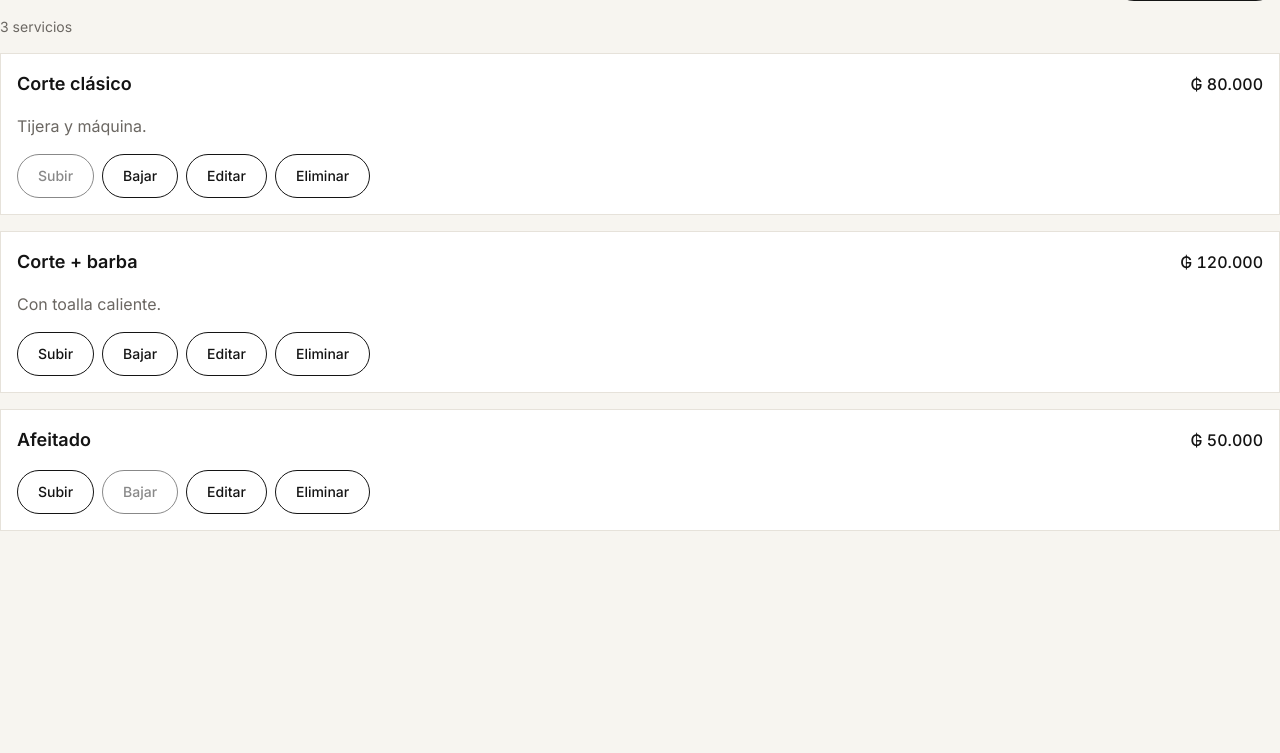
Scenario: edición en línea › Cancelar cierra el formulario y devuelve el foco a Editar
Click the button with aria-label "Editar Corte + barba" at (226, 354), box [186,332,267,376]
(page scrolled)
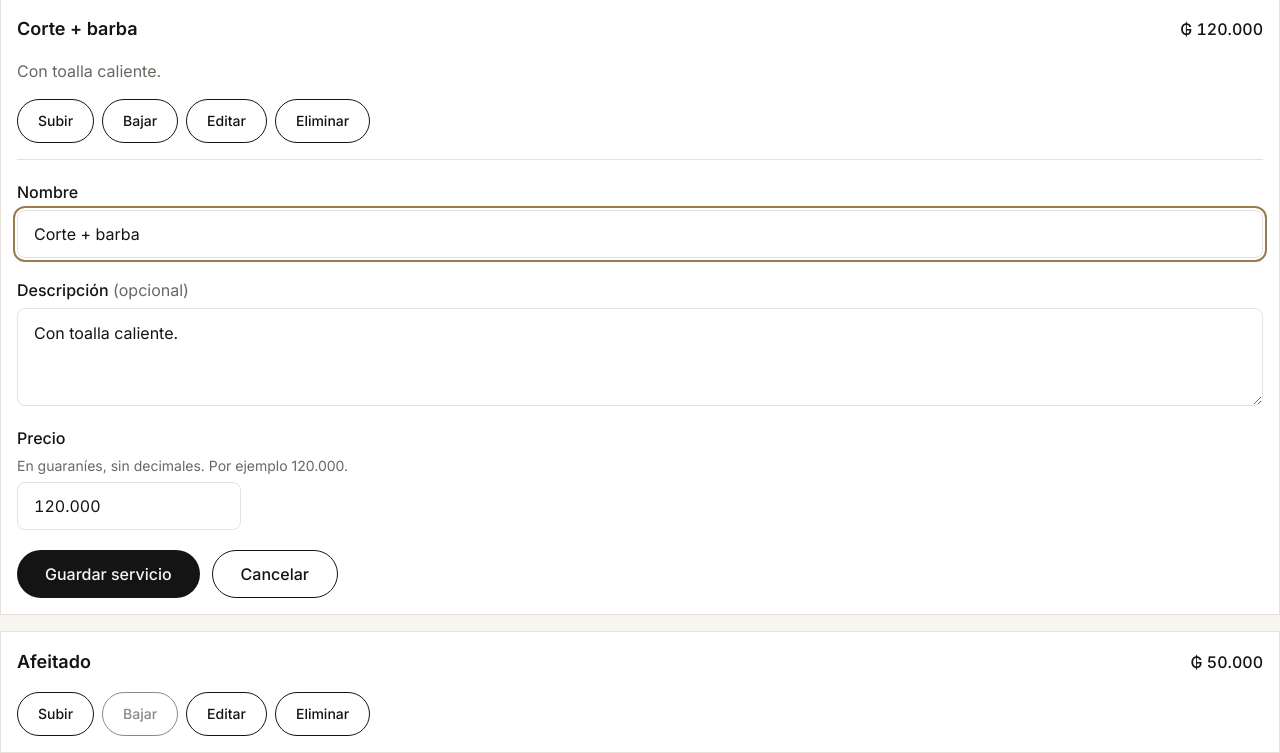
Click the button "Cancelar" at (275, 574), box [212,550,338,598]
(page scrolled)
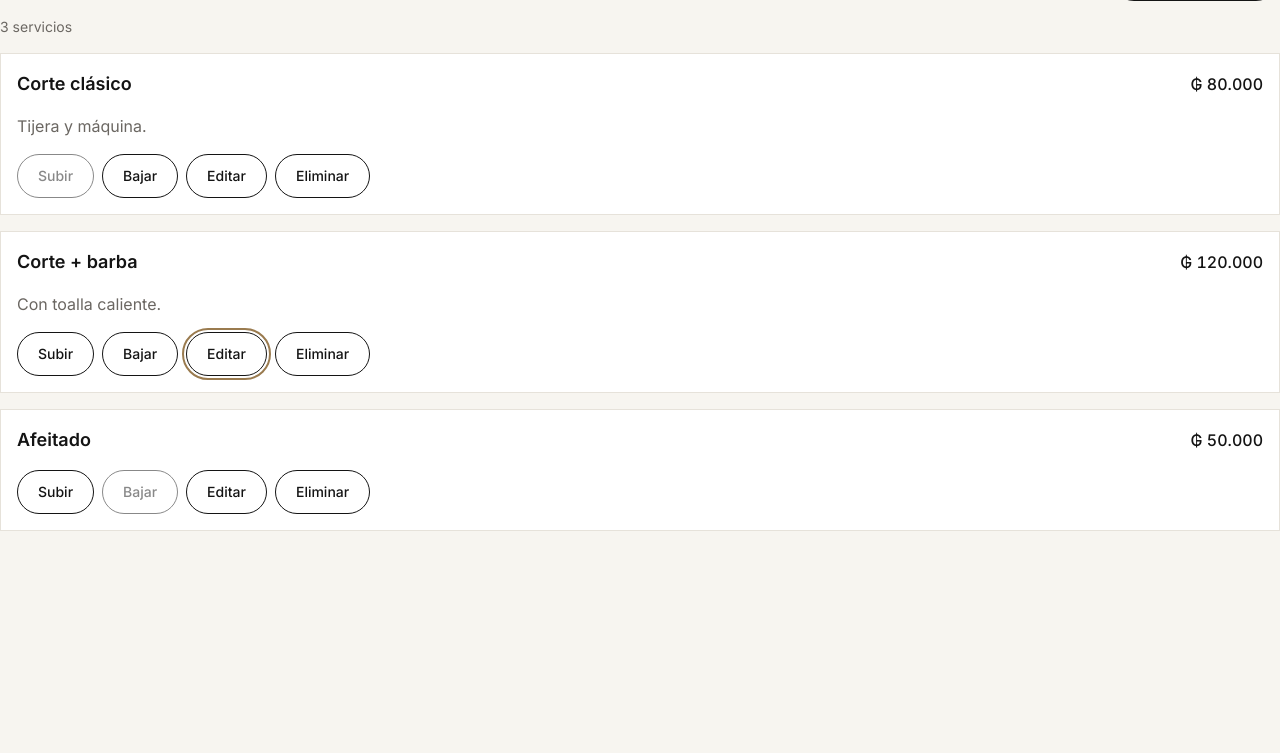
Now the label labelled "Nombre" is gone
Now the button with aria-label "Editar Corte + barba" is collapsed, box [186,332,267,376]
